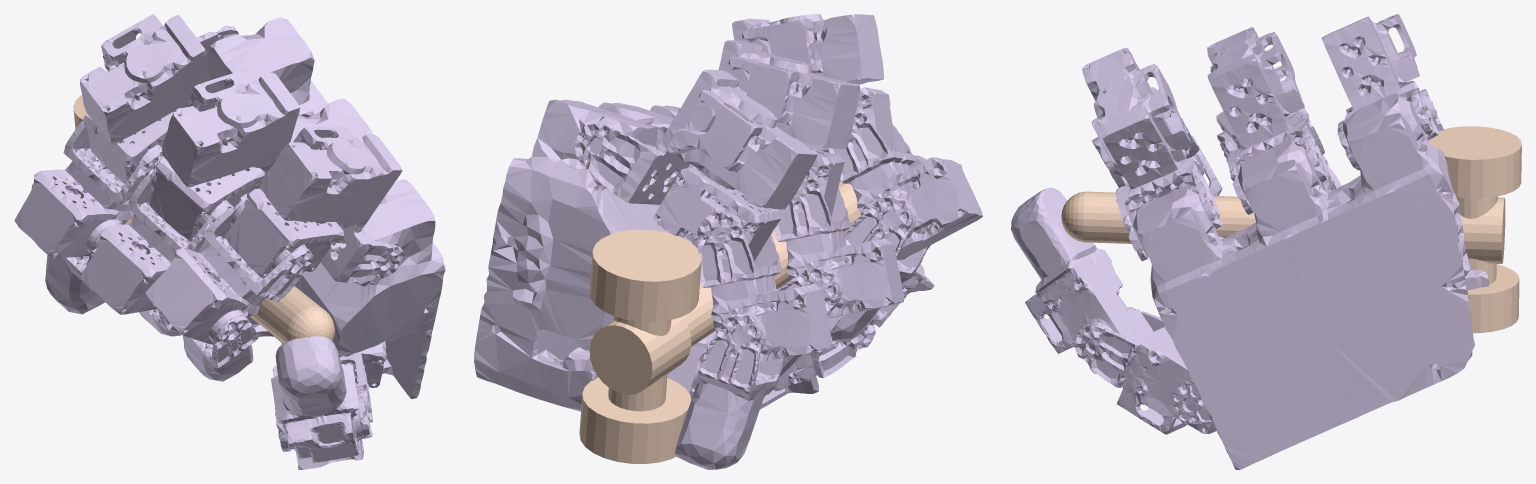
Rendered from d999effaca8af5-final.glb.
3 views of the same model, side by side, from view 1: azimuth 30°, elevation 25°; view 2: azimuth 150°, elevation 25°; view 3: azimuth 270°, elevation 25° (orthographic). The views are drawn at different scales.
Visible parts, largest first — view 1: LEAP_hand, world; view 2: LEAP_hand, world; view 3: LEAP_hand, world.
Part boxes in pixels (box(x1,y1,x2,y2)): LEAP_hand: box(14, 14, 445, 469); world: box(73, 95, 334, 342); LEAP_hand: box(474, 14, 982, 469); world: box(579, 180, 861, 463); LEAP_hand: box(1011, 14, 1489, 469); world: box(1061, 126, 1521, 333).
Bounding box in the file's own units: 0.1362 × 0.1645 × 0.199.
